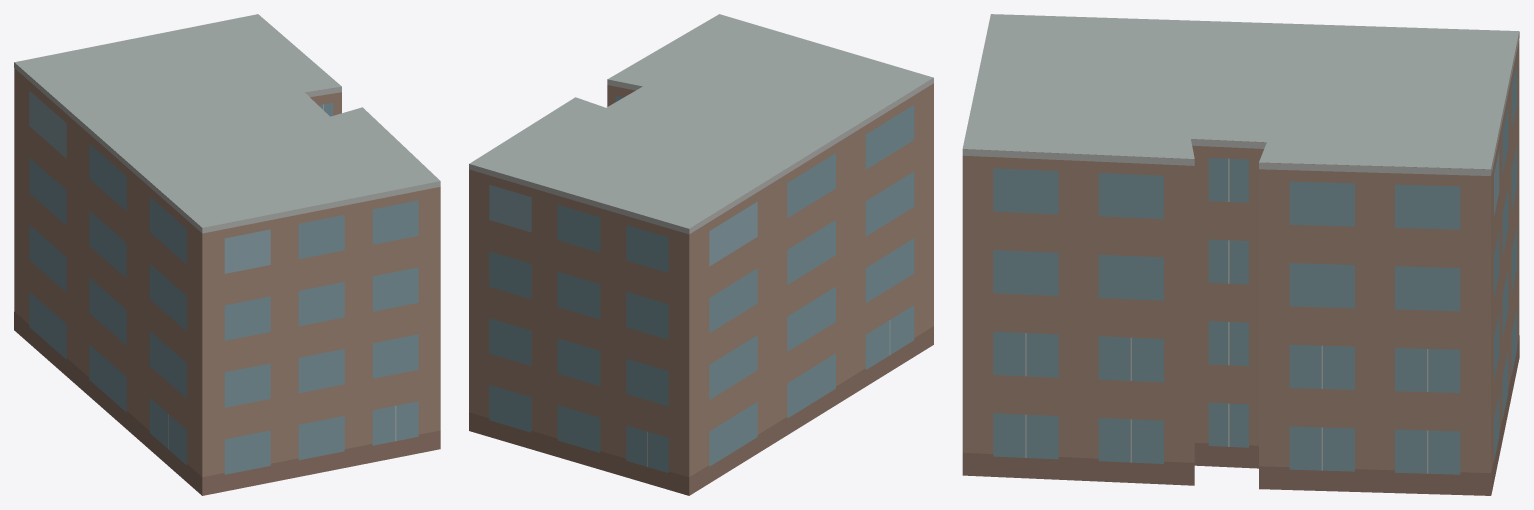
File: survey-upis-32576034.glb
3 renders of one model, left to right at view 1: azimuth 30°, elevation 25°; view 2: azimuth 150°, elevation 25°; view 3: azimuth 270°, elevation 25°, orthographic. The views are drawn at different scales.
Parts seen in each view (by area): view 1: survey-upis-32576034.tmp; view 2: survey-upis-32576034.tmp; view 3: survey-upis-32576034.tmp.
Boxes of the visible parts, x1,y1,x2,y2 form: survey-upis-32576034.tmp: (14, 14, 440, 495); survey-upis-32576034.tmp: (469, 14, 933, 495); survey-upis-32576034.tmp: (962, 14, 1519, 495).
Size of the model in its own units: 11.94 by 11.7 by 18.09.
